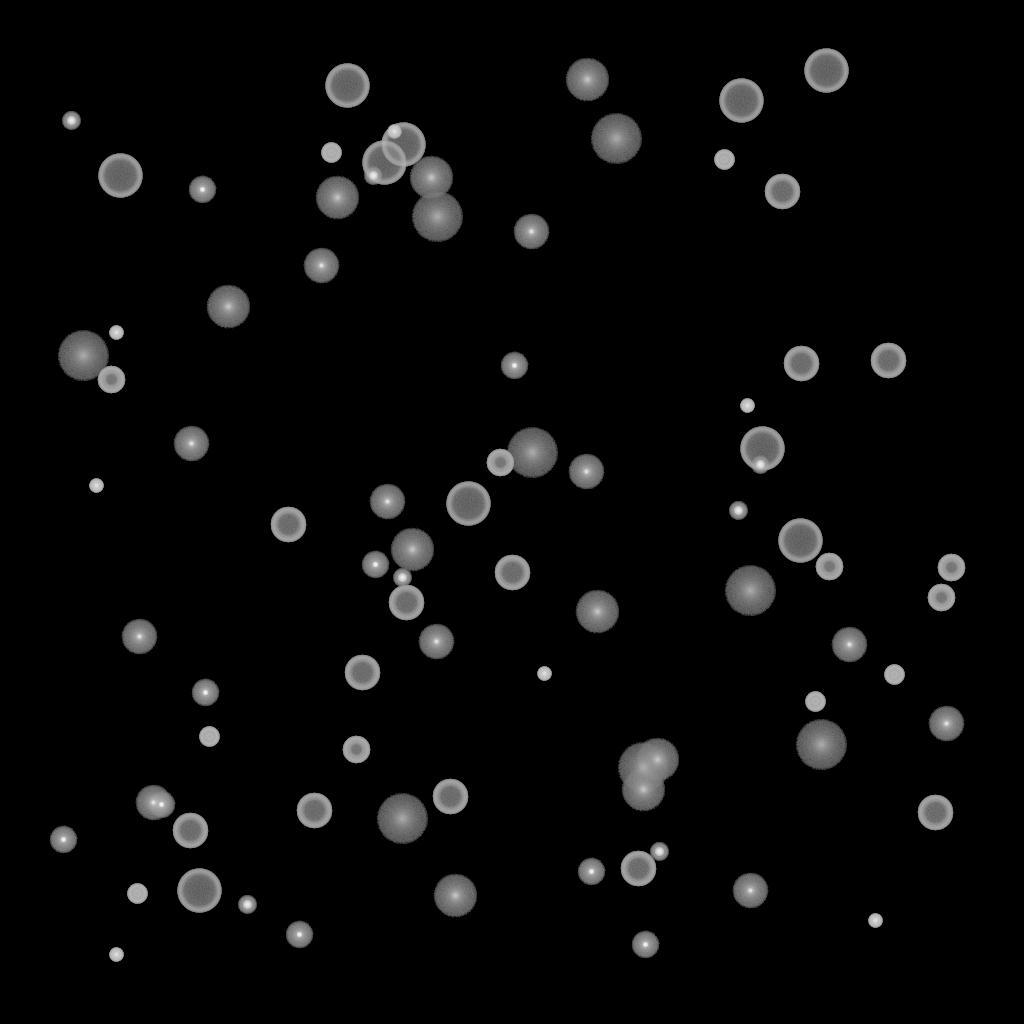depth:-10: (49, 826, 77, 854), (577, 858, 605, 886), (188, 176, 216, 204), (631, 931, 659, 959), (191, 679, 219, 707), (147, 791, 175, 819), (500, 352, 528, 380), (285, 921, 313, 949), (361, 551, 389, 579)
depth:-20: (238, 896, 256, 914), (650, 843, 668, 861), (729, 502, 747, 520), (393, 569, 411, 587), (364, 167, 382, 185), (751, 456, 769, 474), (62, 112, 80, 130)
depth:-30: (89, 479, 103, 493), (740, 399, 754, 413), (387, 125, 401, 139), (109, 948, 123, 962), (868, 914, 882, 928), (537, 667, 551, 681), (109, 326, 123, 340)
depth:-40: (321, 143, 341, 163), (714, 150, 734, 170), (127, 884, 147, 904), (884, 665, 904, 685), (199, 727, 219, 747), (805, 692, 825, 712)
depth:-50: (342, 736, 370, 764), (97, 366, 125, 394), (486, 449, 514, 477), (937, 554, 965, 582), (927, 584, 955, 612), (815, 553, 843, 581)
depth:-60: (917, 795, 953, 831), (432, 779, 468, 815), (870, 343, 906, 379), (172, 813, 208, 849), (620, 851, 656, 887), (764, 174, 800, 210), (270, 507, 306, 543), (783, 346, 819, 382), (344, 655, 380, 691), (494, 555, 530, 591), (388, 585, 424, 621), (296, 793, 332, 829)
depth:-70: (446, 482, 490, 526), (804, 49, 848, 93), (362, 141, 406, 185), (778, 519, 822, 563), (177, 869, 221, 913), (719, 79, 763, 123), (98, 154, 142, 198), (325, 64, 369, 108), (740, 427, 784, 471), (381, 123, 425, 167)
depth:0: (303, 248, 339, 284), (928, 706, 964, 742), (732, 873, 768, 909), (135, 785, 171, 821), (369, 484, 405, 520), (513, 214, 549, 250), (418, 624, 454, 660), (568, 454, 604, 490), (121, 619, 157, 655), (173, 426, 209, 462), (831, 627, 867, 663)
depth:10: (635, 738, 679, 782), (565, 58, 609, 102), (409, 156, 453, 200), (621, 768, 665, 812), (315, 176, 359, 220), (575, 590, 619, 634), (206, 285, 250, 329), (390, 528, 434, 572), (433, 874, 477, 918)
depth:20: (411, 192, 463, 242), (57, 331, 109, 381), (724, 566, 776, 616), (506, 428, 558, 478), (376, 794, 428, 844), (590, 114, 642, 164), (795, 720, 847, 770), (617, 743, 669, 793)
